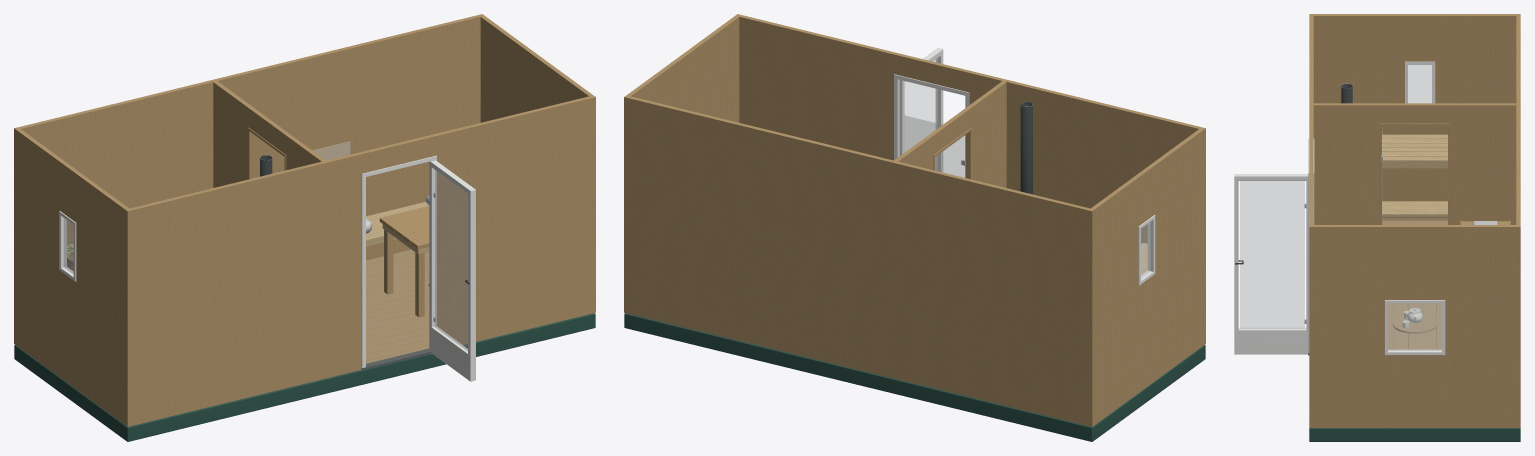
The picture shows the model from 3 angles, left to right: view 1: azimuth 30°, elevation 25°; view 2: azimuth 150°, elevation 25°; view 3: azimuth 270°, elevation 25°; orthographic projection. The views are drawn at different scales.
Parts seen in each view (by area): view 1: DP02-W01, DP02-W02, DP02-W03, Hinge_DP02-D02, Dimensioned foundation, DP02-W04, Floor lounge, DP02-W05, С1 table, Door entry p2_i1010, Window p2_i1081, Л1 bench; view 2: DP02-W02, DP02-W01, DP02-W03, Dimensioned foundation, DP02-W04, DP02-W05, Hinge_DP02-D02, Hinge_DP02-D01, ASTON dimensioned stove and remote firebox, Window p2_i1081, Door entry p2_i1010; view 3: DP02-W04, DP02-W03, DP02-W05, Hinge_DP02-D02, Window p2_i1084, Dimensioned foundation, С1 table, DP02-W01, DP02-W02, ВП2 upper, Window p2_i1081, НС1 lower (+4 smaller).
Boxes of the visible parts, box(x1,y1,x2,y2) form: DP02-W01: box(125, 95, 595, 426); DP02-W02: box(14, 14, 484, 345); DP02-W03: box(16, 129, 128, 424); Hinge_DP02-D02: box(429, 160, 475, 381); Dimensioned foundation: box(14, 313, 595, 441); DP02-W04: box(480, 16, 592, 122); Floor lounge: box(366, 249, 429, 363); DP02-W05: box(213, 81, 325, 187); С1 table: box(379, 206, 429, 317); Door entry p2_i1010: box(361, 155, 436, 370); Window p2_i1081: box(59, 211, 76, 281); Л1 bench: box(366, 195, 429, 243); DP02-W02: box(624, 95, 1094, 426); DP02-W01: box(735, 14, 1205, 345); DP02-W03: box(1091, 129, 1203, 424); Dimensioned foundation: box(624, 313, 1205, 441); DP02-W04: box(627, 16, 739, 122); DP02-W05: box(894, 81, 1006, 187); Hinge_DP02-D02: box(899, 47, 943, 172); Hinge_DP02-D01: box(904, 115, 965, 177); ASTON dimensioned stove and remote firebox: box(1020, 101, 1032, 194); Window p2_i1081: box(1138, 215, 1155, 285); Door entry p2_i1010: box(894, 74, 969, 159); DP02-W04: box(1313, 225, 1516, 427); DP02-W03: box(1313, 14, 1516, 201); DP02-W05: box(1313, 103, 1516, 224); Hinge_DP02-D02: box(1234, 174, 1308, 354); Window p2_i1084: box(1384, 300, 1445, 355); Dimensioned foundation: box(1309, 428, 1520, 441); С1 table: box(1388, 303, 1441, 349); DP02-W01: box(1309, 14, 1313, 427); DP02-W02: box(1516, 14, 1520, 427); ВП2 upper: box(1382, 134, 1447, 163); Window p2_i1081: box(1405, 61, 1435, 103); НС1 lower: box(1382, 201, 1447, 217).
Bounding box in the file's own units: 5.02 × 2.36 × 2.84.
32 materials, 13 textured.
